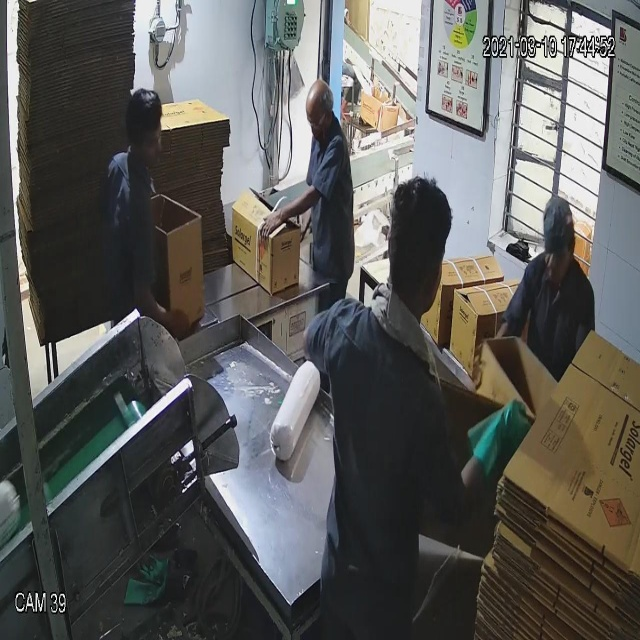Guantes: (461, 388, 542, 483)
Sin_guantes: (133, 260, 193, 354), (252, 186, 332, 252)
